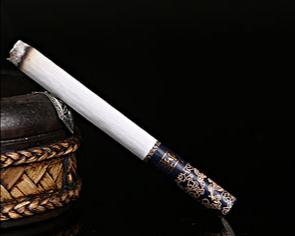Cigarette: (6, 40, 236, 216)
